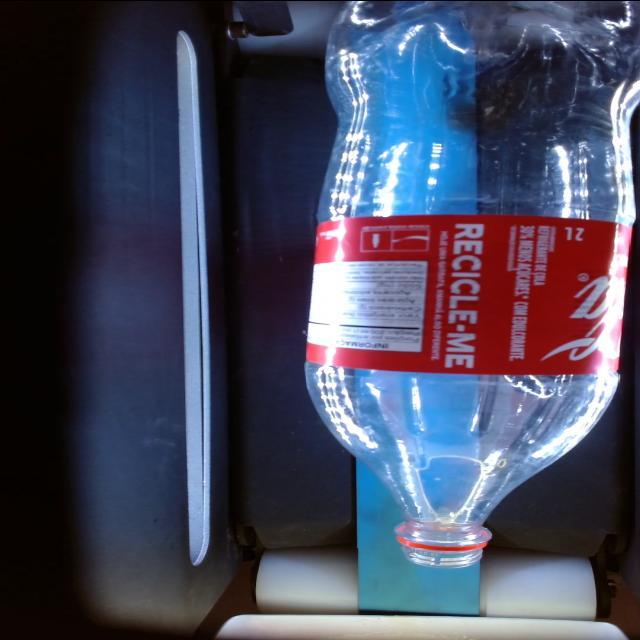bottom: (320, 1, 637, 223)
label: (307, 213, 630, 373)
neck: (306, 361, 619, 546)
